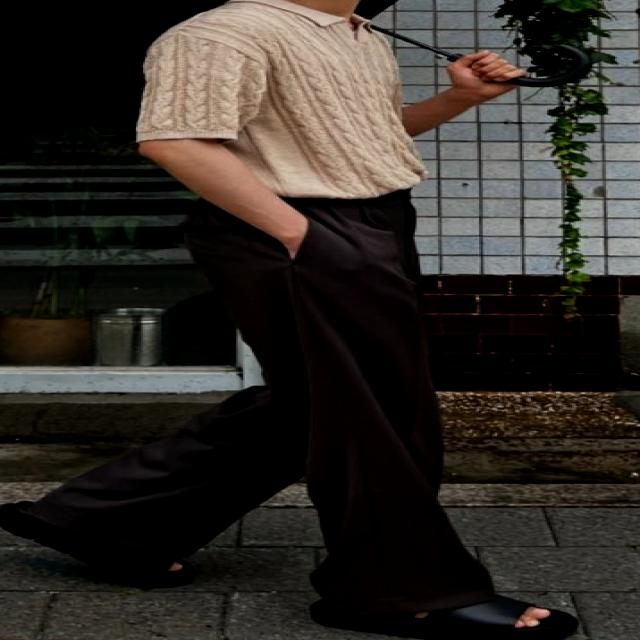slacks: (31, 190, 486, 622)
sweater: (135, 0, 441, 203)
